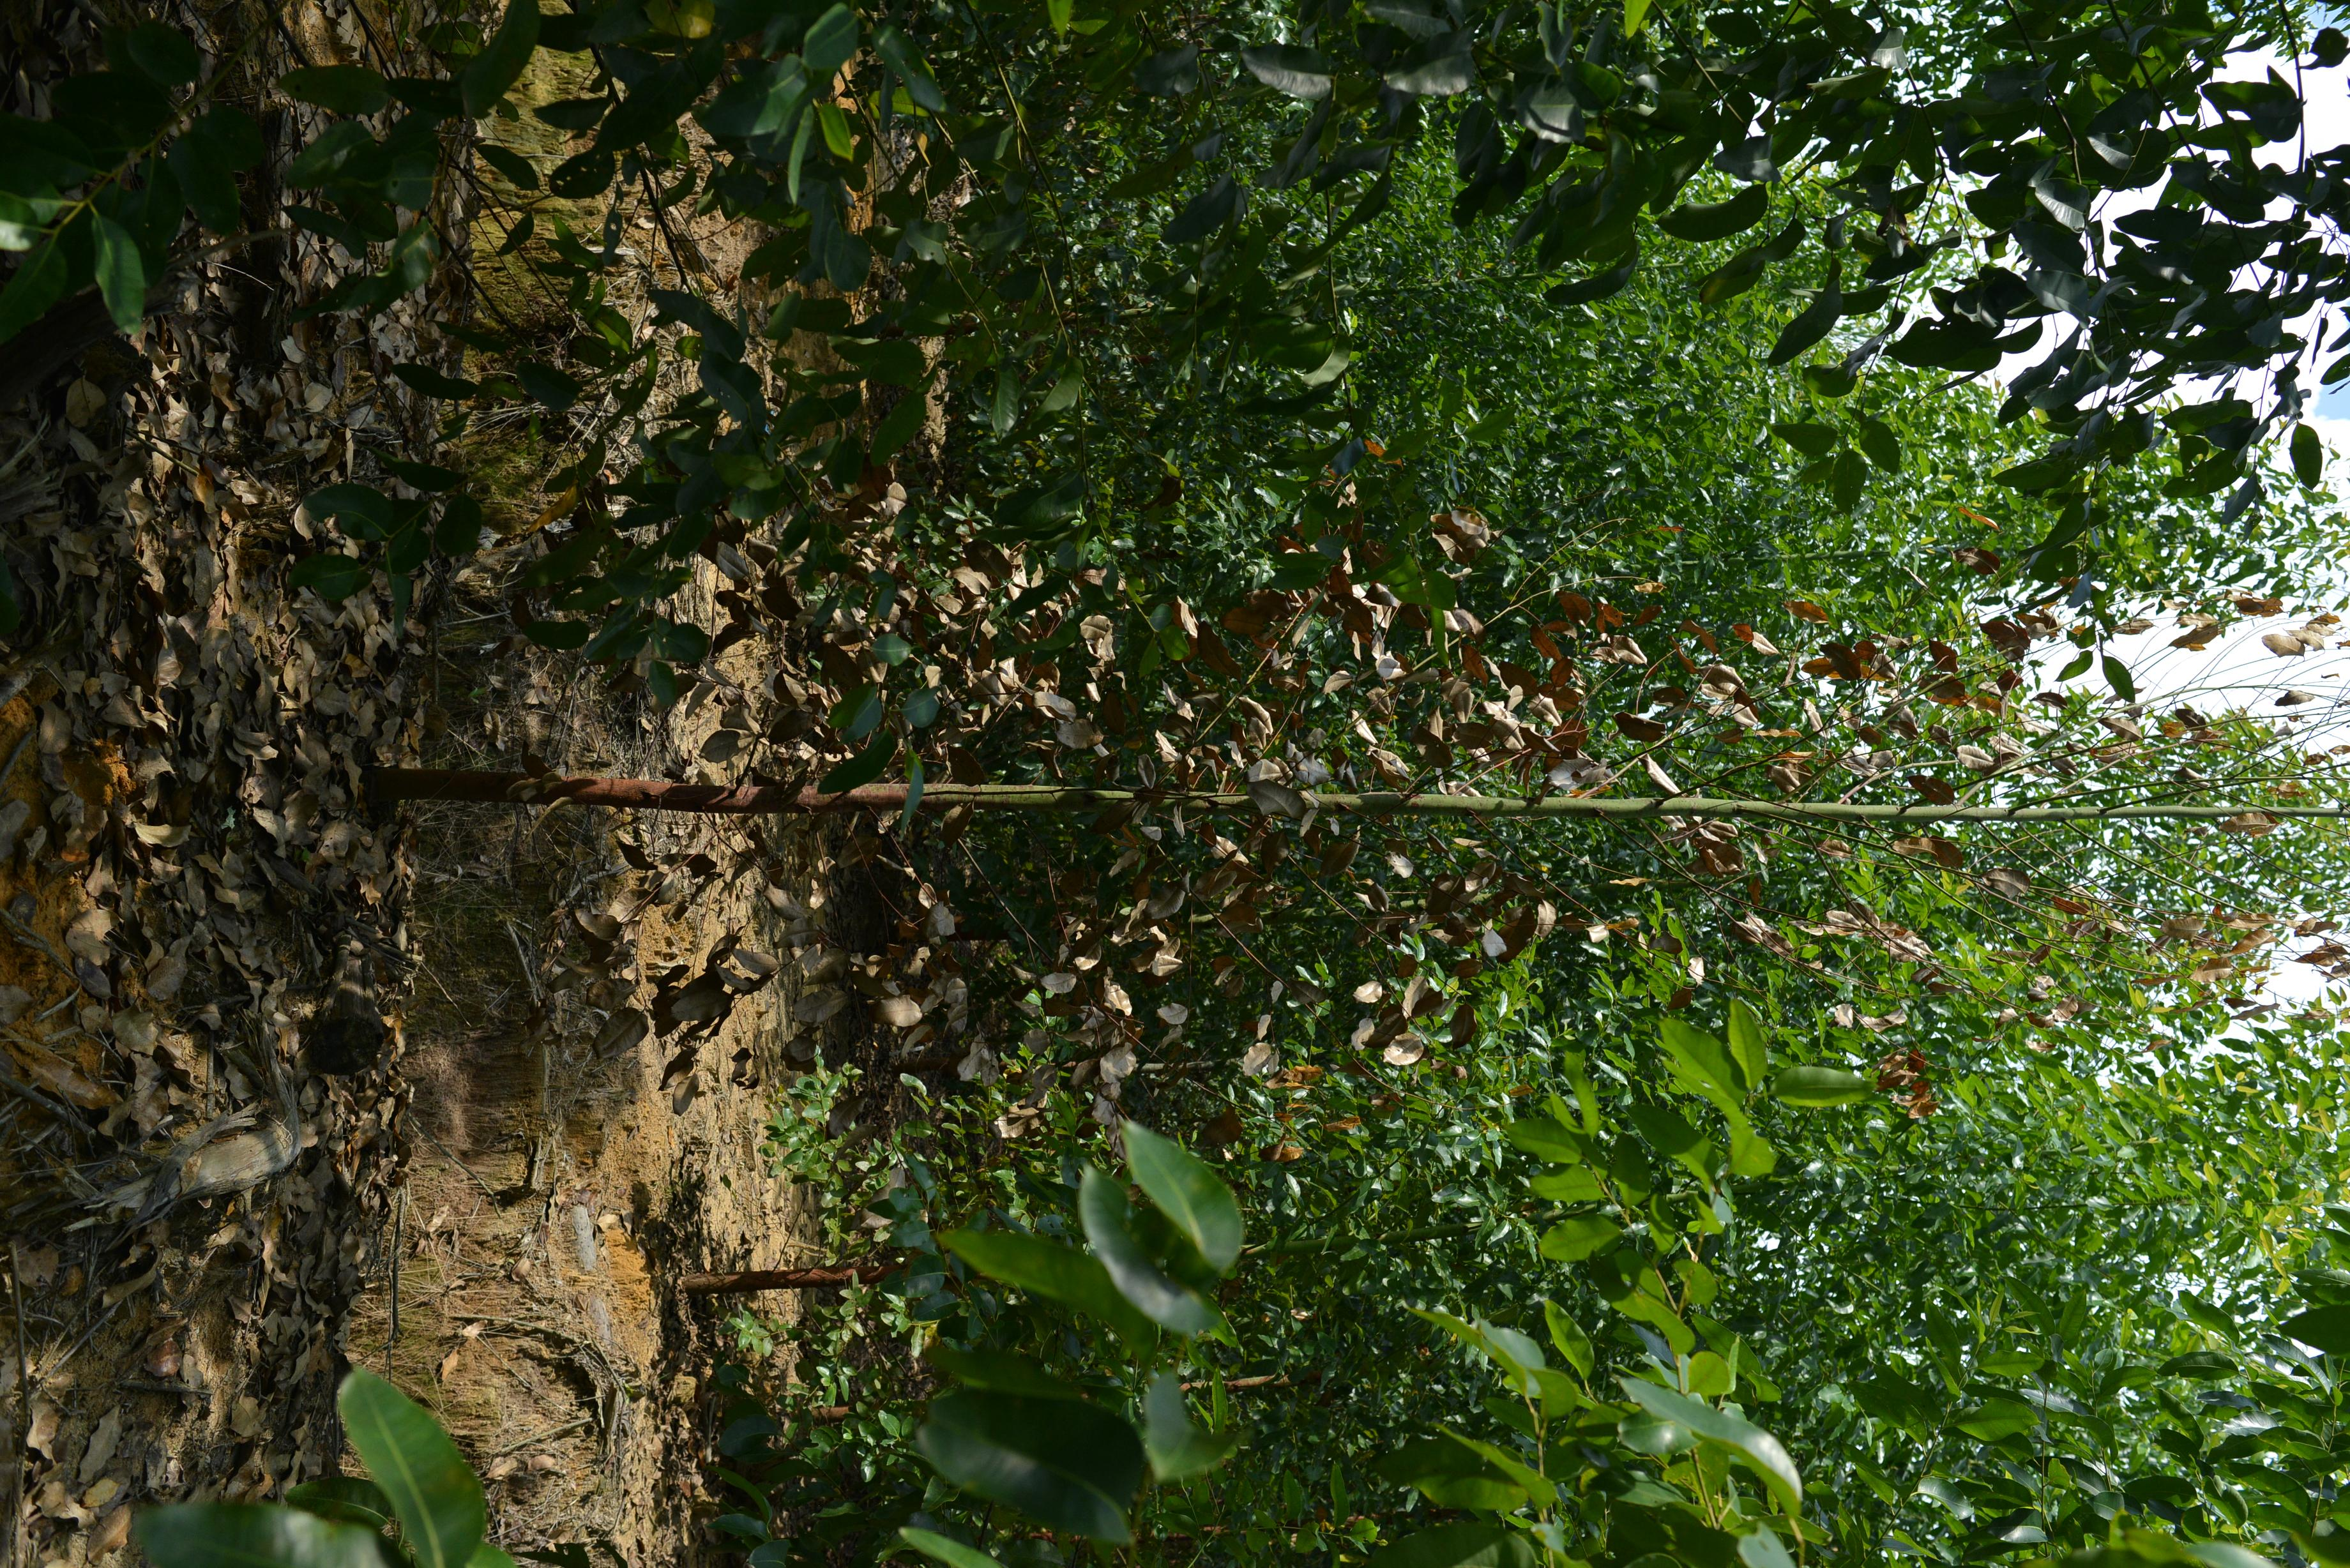Wither Tree Parts: (362, 457, 2350, 1102)
